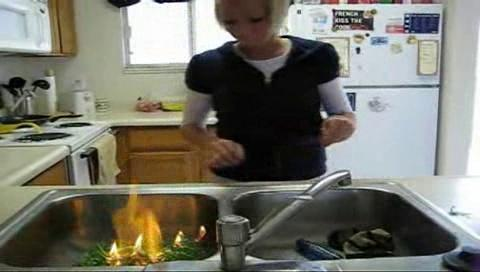fire: (112, 195, 163, 254)
